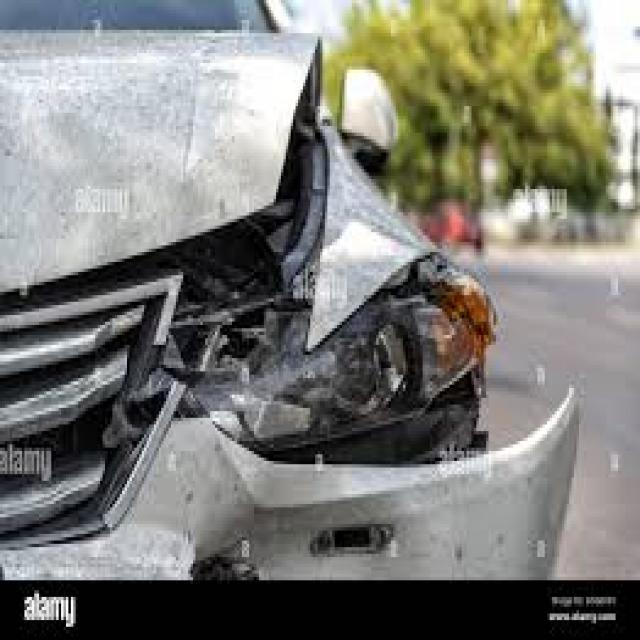damaged-head-light: (198, 279, 480, 429)
